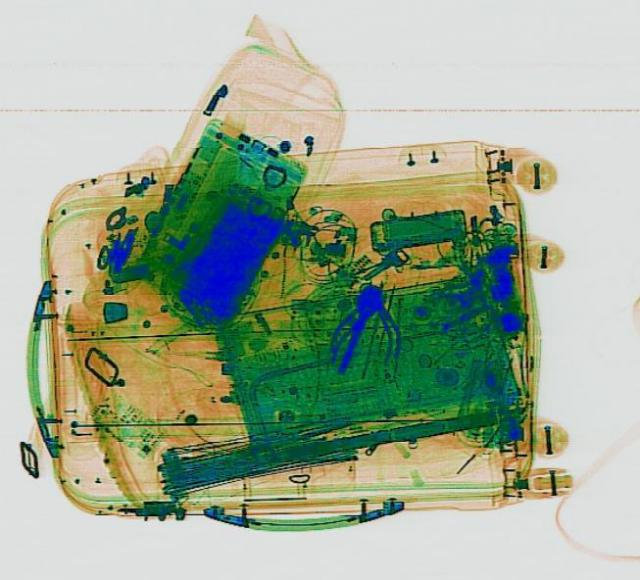Pliers: (321, 282, 405, 370), (332, 283, 412, 365)
